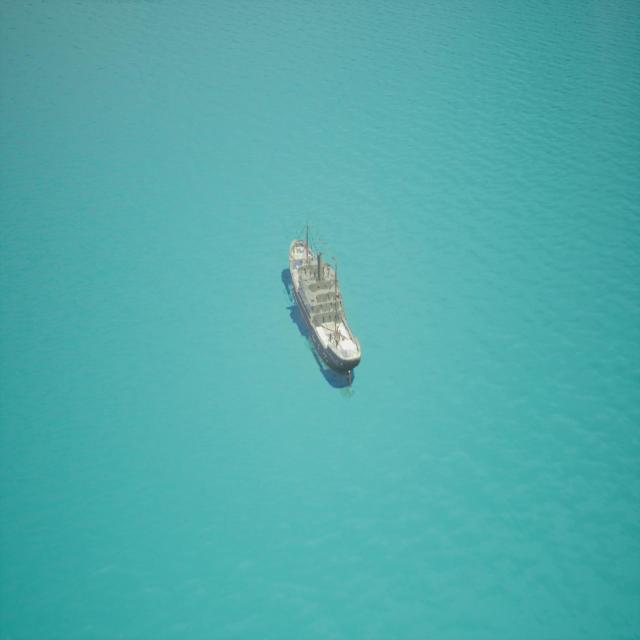fishing ship: (285, 214, 361, 389)
